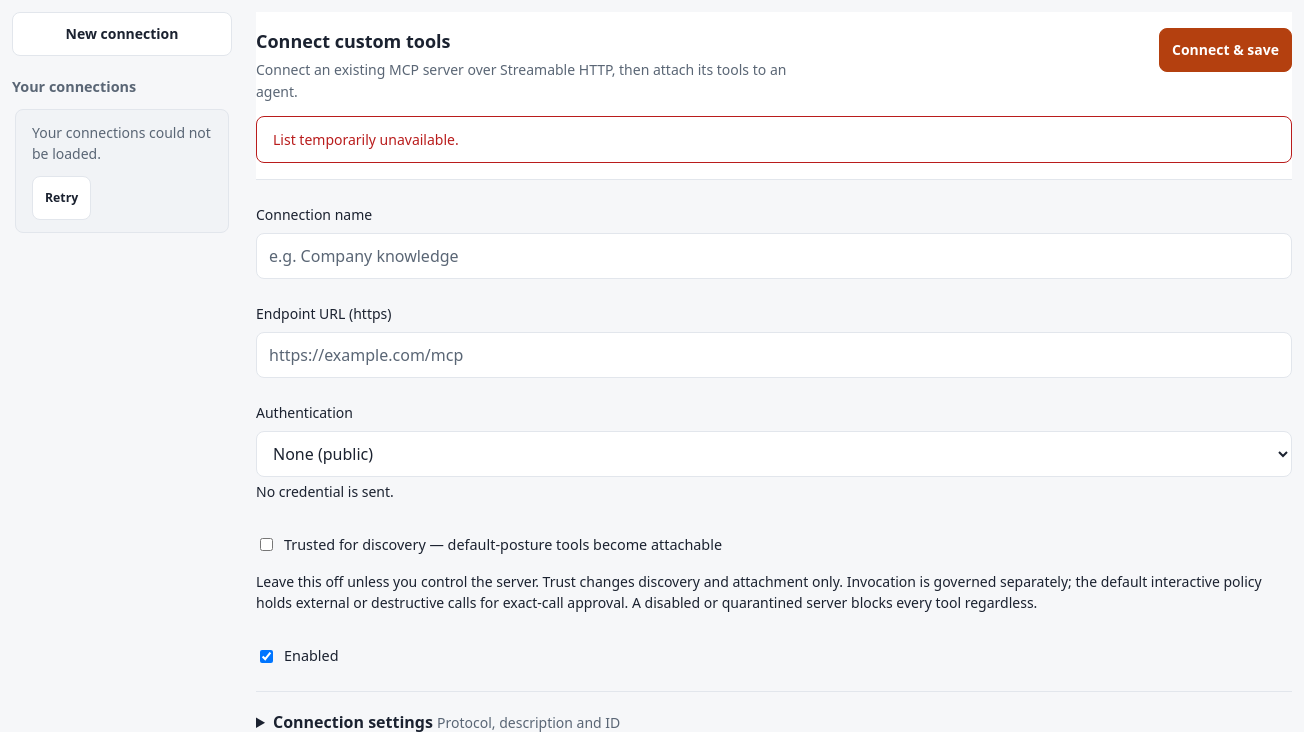
it: McpServerBuilder › distinguishes unavailable connections from an empty list and retries
The width and height of the screenshot is (1304, 732).
Expected: the text "Your connections could not be loaded. Retry" is shown, [15,109,229,233]
Expected: the text "Connect an existing server to make" is not shown
Click the button "Retry". click: (62, 198)
box: [32,176,91,220]
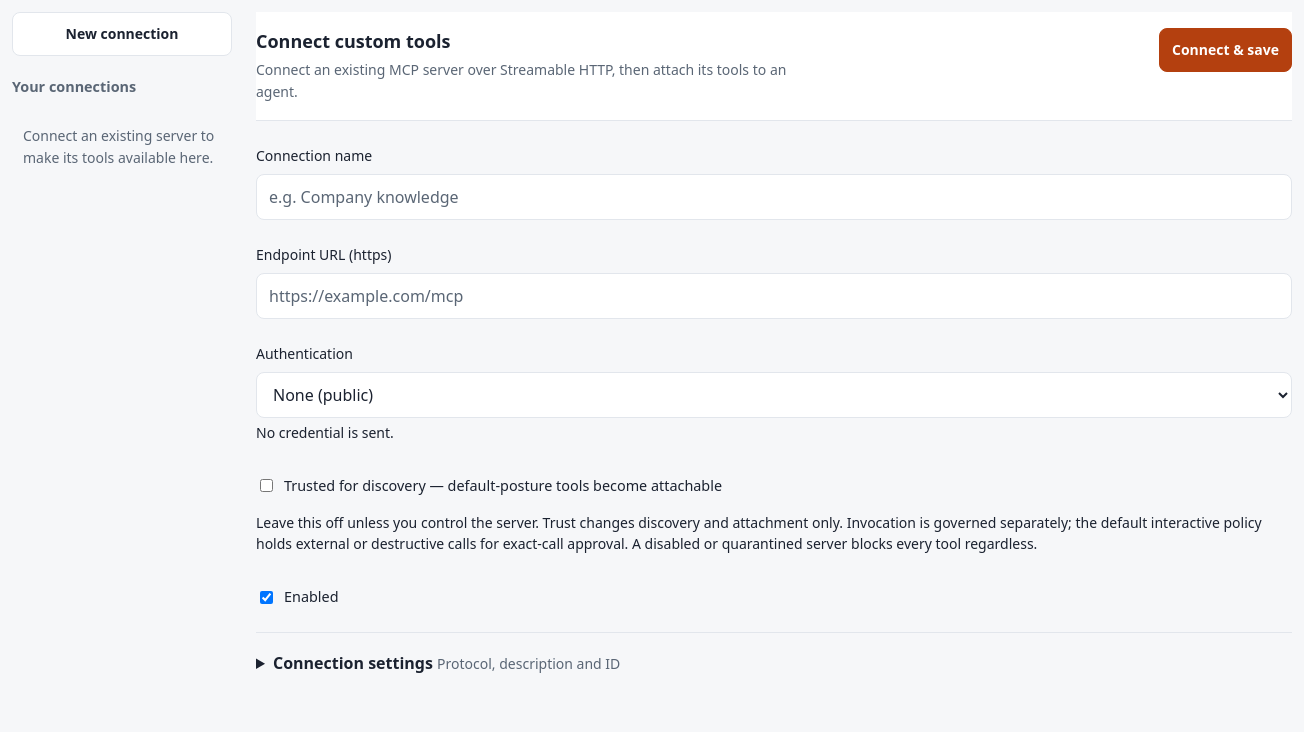
Expected: the list item "Connect an existing server to make its tools available here." is shown, [23,126,214,167]
Expected: the message "Your connections could not be loaded. Retry" is gone
